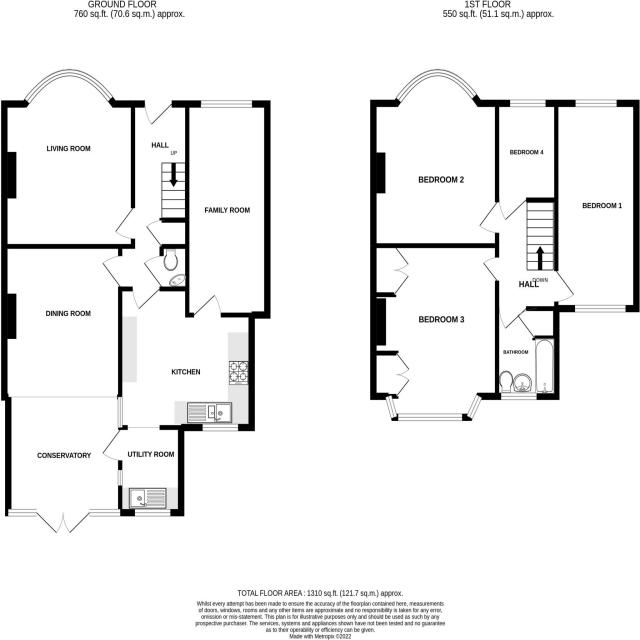DOOR: (495, 307, 532, 333), (142, 100, 177, 127), (476, 196, 499, 236), (138, 253, 163, 289), (99, 253, 124, 288), (499, 198, 531, 225), (114, 204, 136, 243), (130, 286, 164, 311), (554, 267, 576, 305), (192, 293, 223, 318), (101, 429, 122, 463), (144, 219, 163, 249), (481, 256, 499, 281)
DOUBLE DOOR: (35, 510, 91, 536)
ROOM: (99, 285, 256, 517), (0, 243, 123, 537), (1, 64, 135, 249), (370, 64, 499, 248), (370, 243, 500, 421), (184, 100, 271, 319), (554, 100, 640, 312), (495, 100, 559, 227)
WINDOW: (22, 66, 115, 108), (394, 67, 479, 105), (573, 302, 627, 315), (398, 412, 463, 422), (200, 99, 253, 109), (6, 506, 39, 521), (500, 390, 538, 403), (382, 393, 398, 422), (466, 393, 483, 420), (575, 98, 618, 108), (509, 97, 547, 108), (134, 508, 172, 518), (202, 422, 239, 432), (89, 507, 121, 518), (117, 396, 124, 428), (117, 468, 123, 486)
